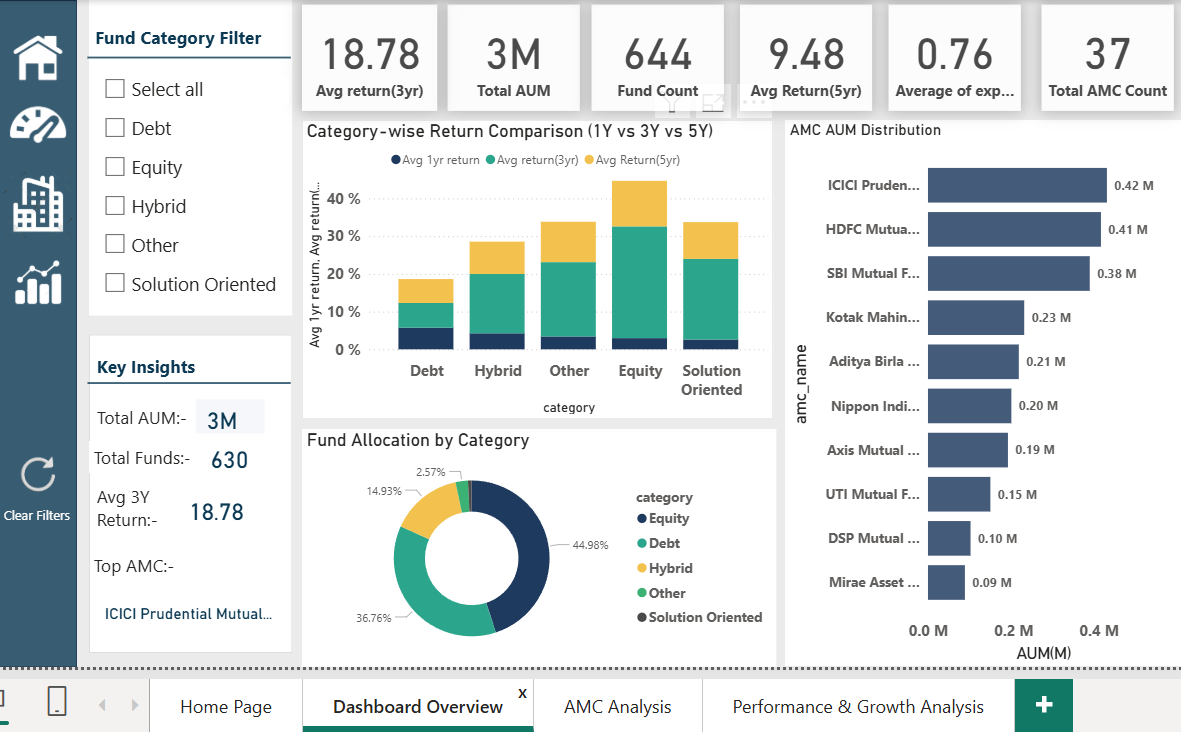

The page's visual inventory and layout, read from the dashboard file:
{"tool":"powerbi","page":{"name":"Dashboard Overview ","canvas":[1280,720],"ordinal":1},"visuals":[{"type":"shape","box":[96.9,0,219.6,340.7],"z":0},{"type":"shape","box":[0,0,84.2,720.6],"z":1000},{"type":"card","fields":{"Values":["Sheet1.Total AUM"]},"box":[484.1,4.9,142.5,115],"z":2000},{"type":"donutChart","title":"Fund Allocation by Category","fields":{"Category":["Sheet1.category"],"Y":["Sheet1.AUM(M)"]},"box":[326.7,463.3,511.7,256.7],"z":3000},{"type":"columnChart","title":"Category-wise Return Comparison (1Y vs 3Y vs 5Y)","fields":{"Category":["Sheet1.category"],"Y":["Sheet1.Avg 1yr return","Sheet1.Avg return(3yr)","Sheet1.Avg Return(5yr)"]},"box":[327.1,129.5,508.4,322.2],"z":4000},{"type":"clusteredBarChart","title":"AMC AUM Distribution","fields":{"Category":["Sheet1.amc_name"],"Y":["Sheet1.AUM(M)"]},"box":[848.5,129.5,430.7,589.4],"z":5000},{"type":"card","fields":{"Values":["Sheet1.Fund Count"]},"box":[639.6,4.9,142.5,115],"z":6000},{"type":"card","fields":{"Values":["Sheet1.Avg return(3yr)"]},"box":[327.1,4.9,145.7,115],"z":7000},{"type":"card","fields":{"Values":["Sheet1.Avg Return(5yr)"]},"box":[799.9,4.9,142.5,115],"z":8000},{"type":"card","fields":{"Values":["Sheet1.Total AMC Count"]},"box":[1125.4,4.9,142.5,115],"z":9000},{"type":"card","fields":{"Values":["Avg(Sheet1.expense_ratio)"]},"box":[960.2,4.9,142.5,115],"z":10000},{"type":"textbox","box":[99.5,22.1,192.6,41.1],"z":11000},{"type":"slicer","fields":{"Values":["Sheet1.category"]},"box":[102,69.6,215.4,276.9],"z":12000},{"type":"shape","box":[96.9,360.4,219.6,343.7],"z":13000},{"type":"textbox","box":[99.9,377,130.2,48.5],"z":14000},{"type":"shape","box":[95.4,36.3,219.6,53],"z":15000},{"type":"shape","box":[95.4,387.6,219.6,53],"z":16000},{"type":"cardVisual","fields":{"Data":["Sheet1.Total AUM"]},"box":[207.4,425.5,84.8,50],"z":17000},{"type":"textbox","box":[96.9,433.1,118.1,42.4],"z":18000},{"type":"textbox","box":[96.9,475.5,128.7,34.8],"z":19000},{"type":"cardVisual","fields":{"Data":["Sheet1.Total Funds"]},"box":[205.9,467.9,86.3,50],"z":20000},{"type":"textbox","box":[99.9,517.9,107.5,74.2],"z":21000},{"type":"cardVisual","fields":{"Data":["Sheet1.Avg return(3yr)"]},"box":[187.8,517.9,104.5,60.6],"z":22000},{"type":"textbox","box":[96.9,592.1,106,40.9],"z":23000},{"type":"cardVisual","fields":{"Data":["Sheet1.top amc by aum"]},"box":[84.2,612.1,231.5,92.3],"z":24000},{"type":"image","box":[6.5,30.8,71.2,63.1],"z":25000},{"type":"image","box":[6.5,98.8,71.2,71.2],"z":26000},{"type":"image","box":[0,179.7,84.2,82.6],"z":27000},{"type":"image","box":[0,262.3,84.2,84.2],"z":28000},{"type":"image","box":[9.7,479.3,63.1,63.1],"z":29000},{"type":"textbox","box":[0,540.8,90.7,29.1],"z":30000}]}

Visuals, with their boxes on the page's 1280x720 design canvas (x1, y1, x2, y2). These are canvas units, not pixel positions in the 1181x732 screenshot, which may show the page scaled, cropped or inside an application window:
shape: select_region(97, 0, 316, 341)
shape: select_region(0, 0, 84, 721)
card - Sheet1.Total AUM: select_region(484, 5, 627, 120)
"Fund Allocation by Category" donutChart: select_region(327, 463, 838, 720)
"Category-wise Return Comparison (1Y vs 3Y vs 5Y)" columnChart: select_region(327, 130, 836, 452)
"AMC AUM Distribution" clusteredBarChart: select_region(848, 130, 1279, 719)
card - Sheet1.Fund Count: select_region(640, 5, 782, 120)
card - Sheet1.Avg return(3yr): select_region(327, 5, 473, 120)
card - Sheet1.Avg Return(5yr): select_region(800, 5, 942, 120)
card - Sheet1.Total AMC Count: select_region(1125, 5, 1268, 120)
card - Avg(Sheet1.expense_ratio): select_region(960, 5, 1103, 120)
textbox: select_region(100, 22, 292, 63)
slicer - Sheet1.category: select_region(102, 70, 317, 346)
shape: select_region(97, 360, 316, 704)
textbox: select_region(100, 377, 230, 426)
shape: select_region(95, 36, 315, 89)
shape: select_region(95, 388, 315, 441)
cardVisual - Sheet1.Total AUM: select_region(207, 426, 292, 476)
textbox: select_region(97, 433, 215, 476)
textbox: select_region(97, 476, 226, 510)
cardVisual - Sheet1.Total Funds: select_region(206, 468, 292, 518)
textbox: select_region(100, 518, 207, 592)
cardVisual - Sheet1.Avg return(3yr): select_region(188, 518, 292, 578)
textbox: select_region(97, 592, 203, 633)
cardVisual - Sheet1.top amc by aum: select_region(84, 612, 316, 704)
image: select_region(6, 31, 78, 94)
image: select_region(6, 99, 78, 170)
image: select_region(0, 180, 84, 262)
image: select_region(0, 262, 84, 346)
image: select_region(10, 479, 73, 542)
textbox: select_region(0, 541, 91, 570)
